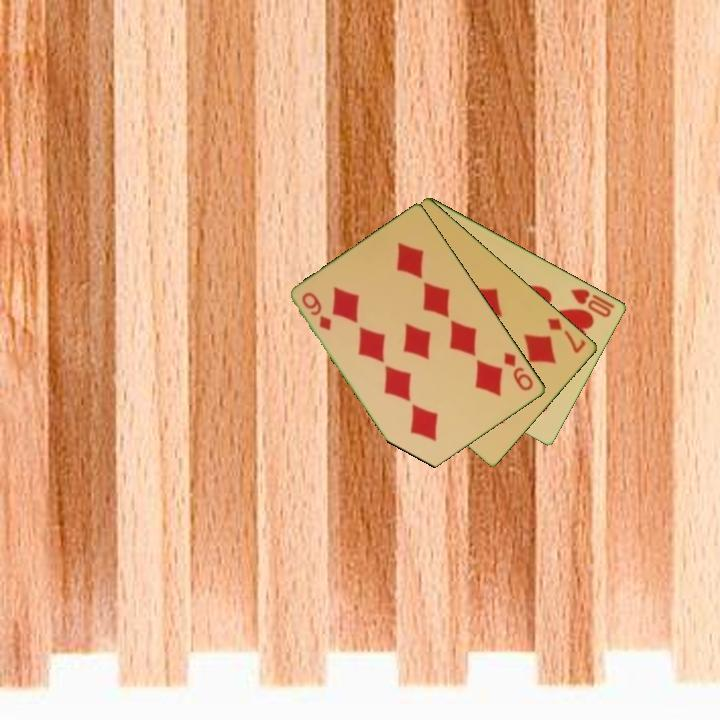10h: (567, 285, 615, 320)
7d: (544, 314, 589, 356)
9d: (298, 288, 335, 333), (501, 349, 537, 394)
